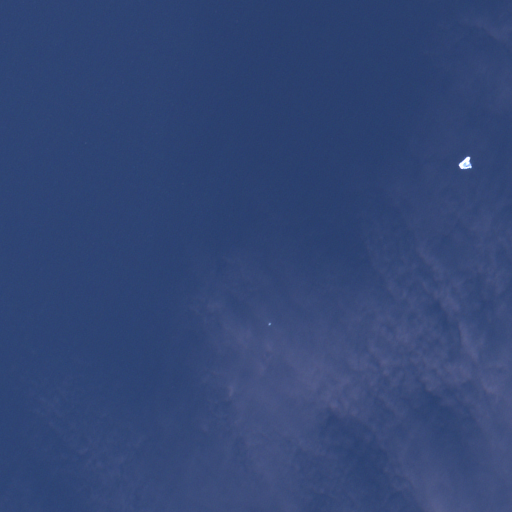Iceberg: (458, 156, 471, 168), (268, 323, 270, 325)
